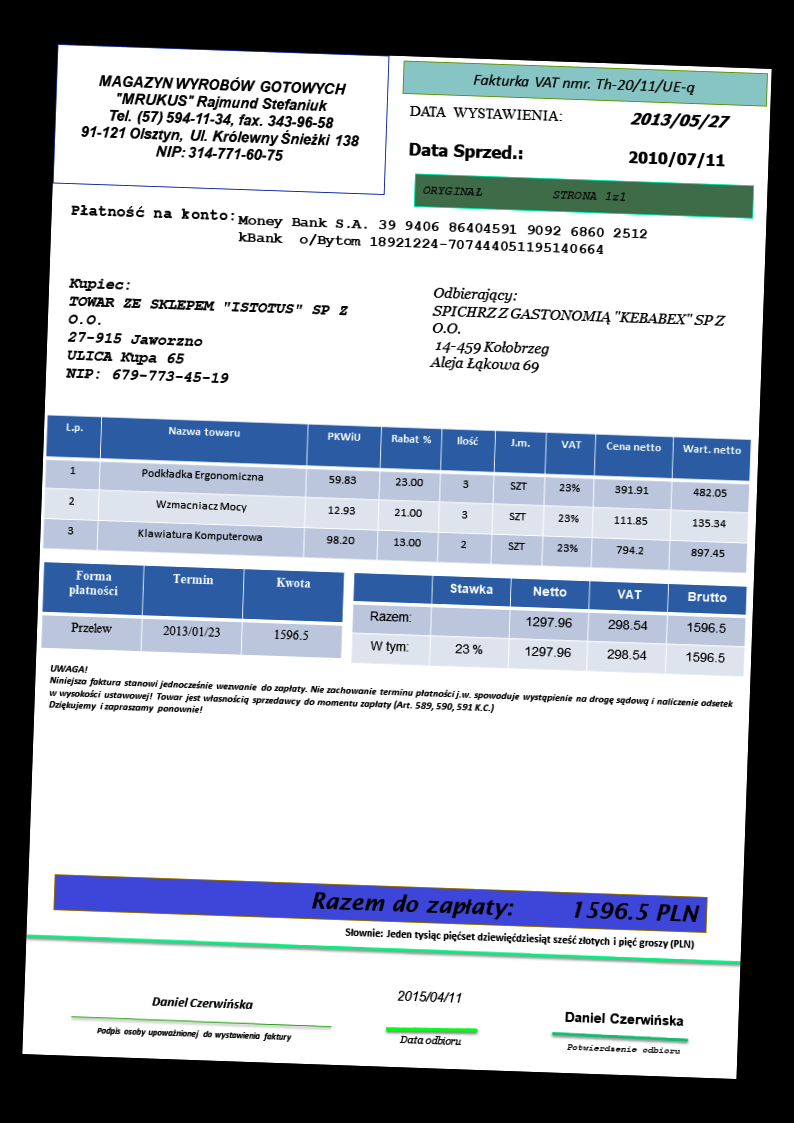Table: (41, 413, 756, 578), (350, 569, 748, 681), (40, 559, 346, 660)
TextBox: (43, 660, 736, 739), (62, 276, 353, 391), (427, 283, 729, 383), (75, 71, 368, 170), (236, 211, 650, 258), (305, 886, 703, 928), (341, 923, 697, 952), (468, 70, 698, 99), (421, 179, 630, 205), (93, 1023, 294, 1046), (406, 99, 565, 127), (66, 200, 239, 224), (406, 138, 526, 164), (561, 1008, 686, 1031), (624, 147, 728, 172), (624, 108, 732, 132), (562, 1040, 684, 1056), (148, 993, 255, 1011), (393, 987, 463, 1005), (397, 1033, 464, 1047)
